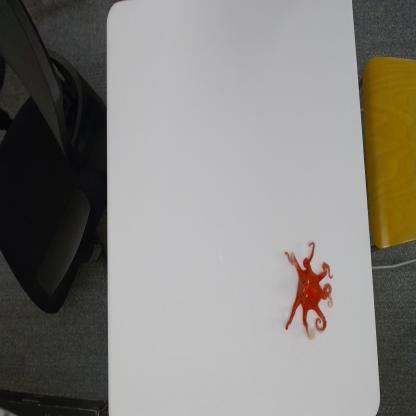Octopus: (284, 238, 334, 342)
